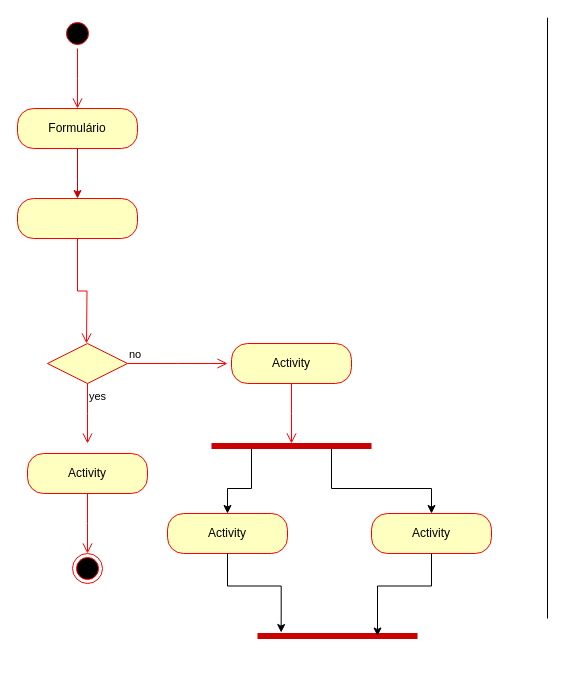
Image size: 566x674. Some labels were removed from this diagram. The shapes that lost their labels are listed below. From the top down, each one's box as (x1, y1, x2, y2) in pixels, then its label:
(16, 198, 138, 238): Taxa
(46, 342, 128, 384): Condition
